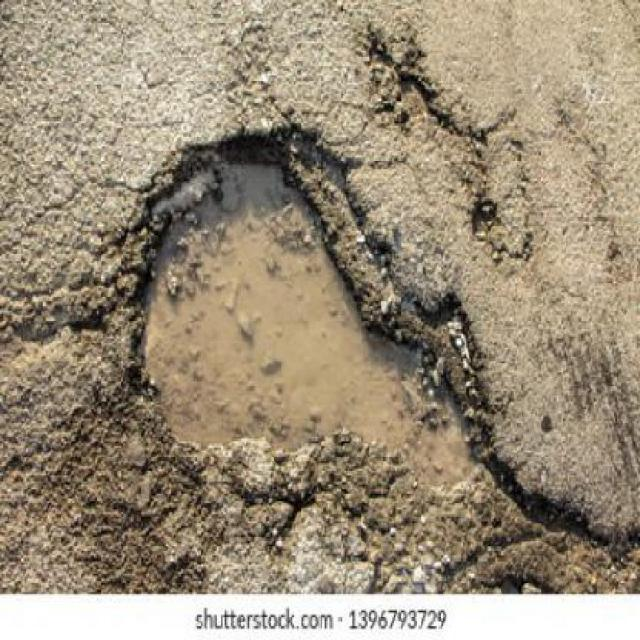Buraco: (60, 117, 640, 593)
